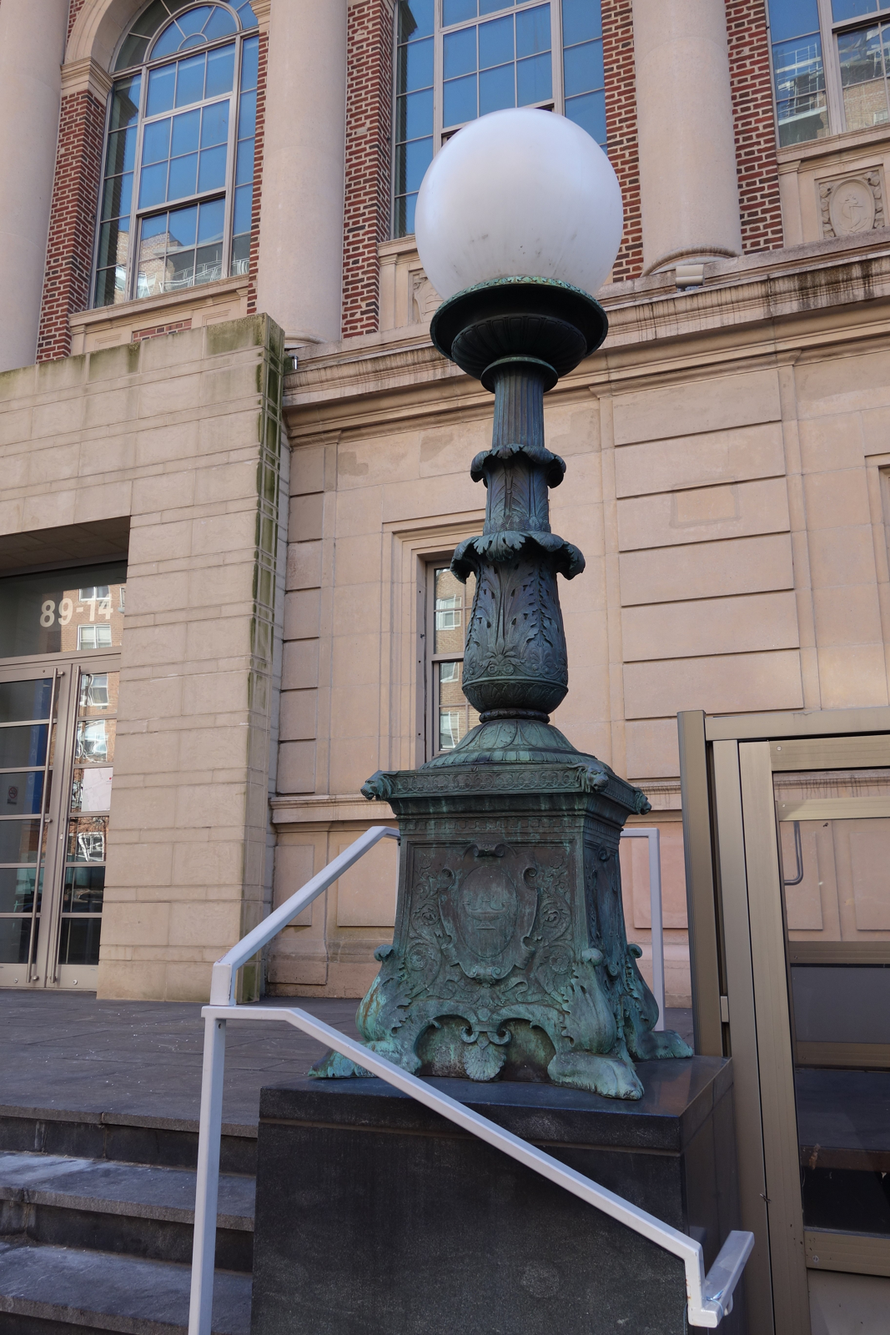fachada: (8, 4, 890, 1026)
poste: (321, 88, 722, 1110)
